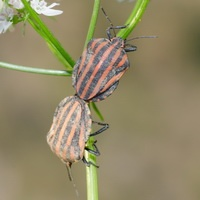insect: (47, 0, 148, 199)
